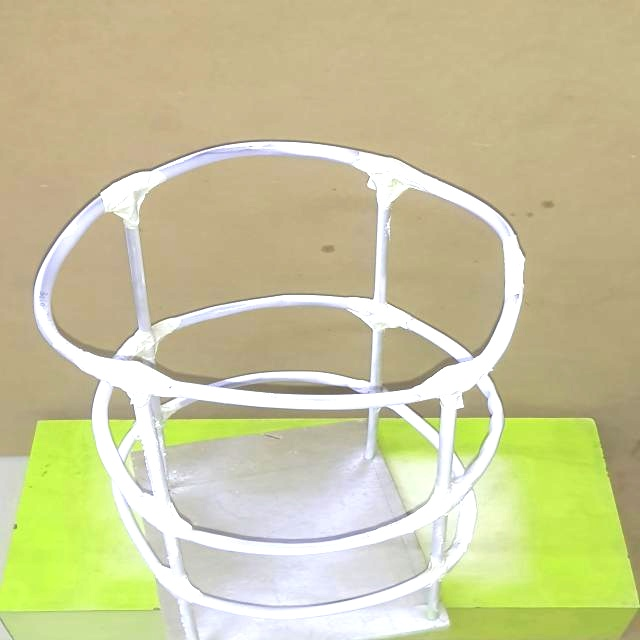silo: (41, 138, 530, 640)
